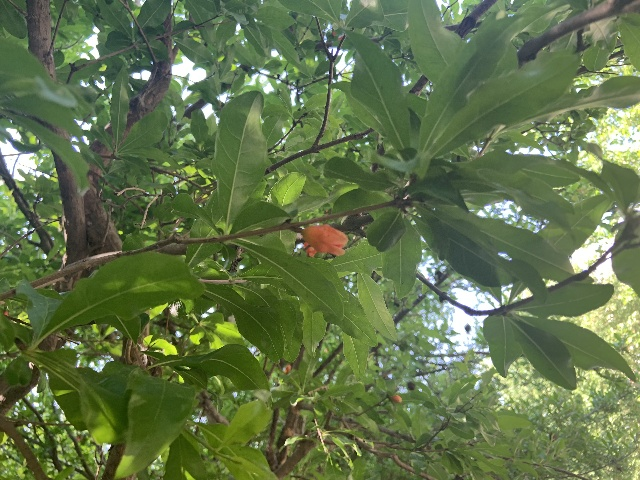bud: (390, 395, 402, 403)
flower: (303, 224, 348, 255), (303, 242, 316, 257)
